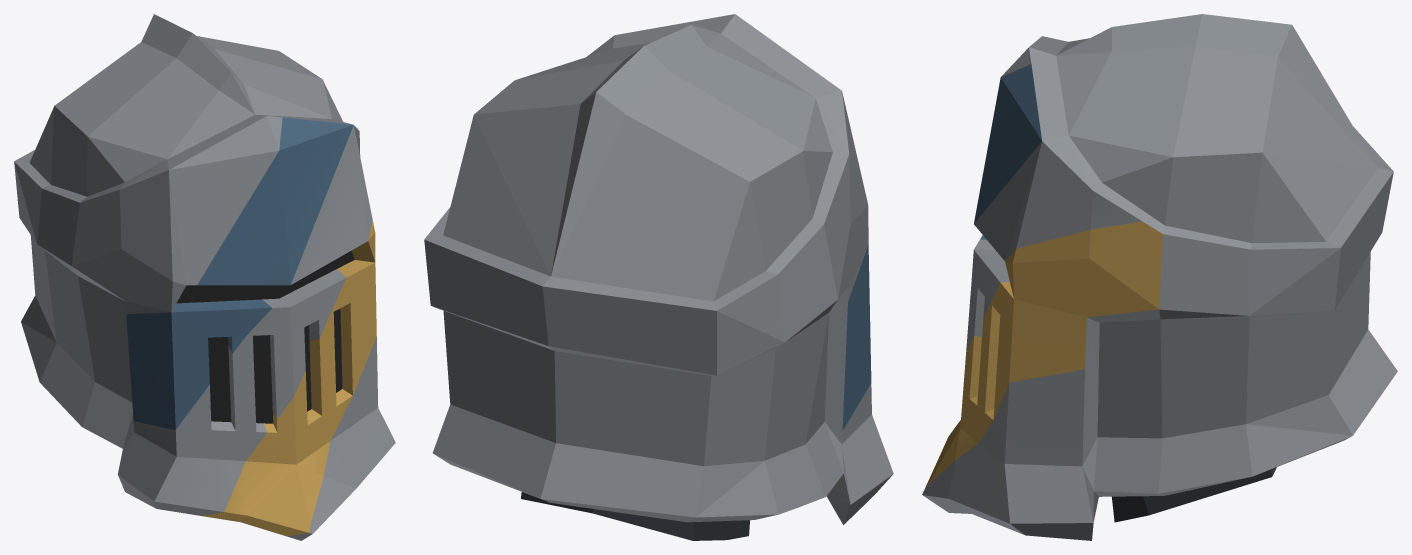
The model's file is Chr_Head_No_Elements_Male_12_Static.fbx.
The picture shows the model from 3 angles, left to right: view 1: azimuth 30°, elevation 25°; view 2: azimuth 150°, elevation 25°; view 3: azimuth 270°, elevation 25°; orthographic projection. The views are drawn at different scales.
Parts seen in each view (by area): view 1: Chr_Head_No_Elements_Male_12_Static; view 2: Chr_Head_No_Elements_Male_12_Static; view 3: Chr_Head_No_Elements_Male_12_Static.
Boxes of the visible parts, x1,y1,x2,y2 form: Chr_Head_No_Elements_Male_12_Static: [14, 14, 395, 540]; Chr_Head_No_Elements_Male_12_Static: [424, 14, 893, 540]; Chr_Head_No_Elements_Male_12_Static: [922, 14, 1397, 540].
Size of the model in its own units: 0.2766 by 0.4063 by 0.3512.
